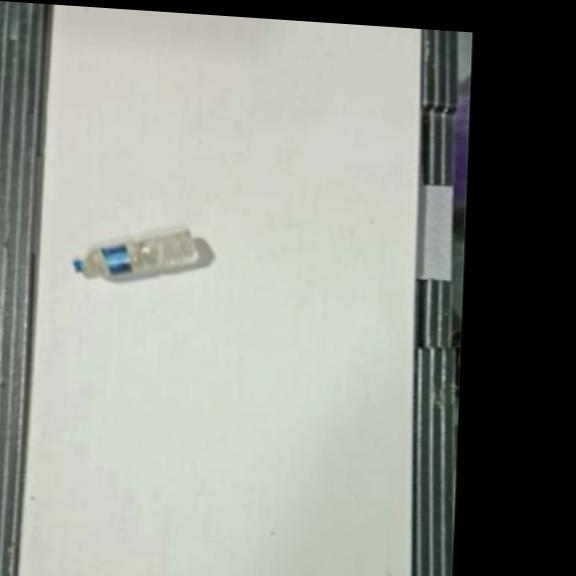Plastik: (73, 218, 202, 282)
